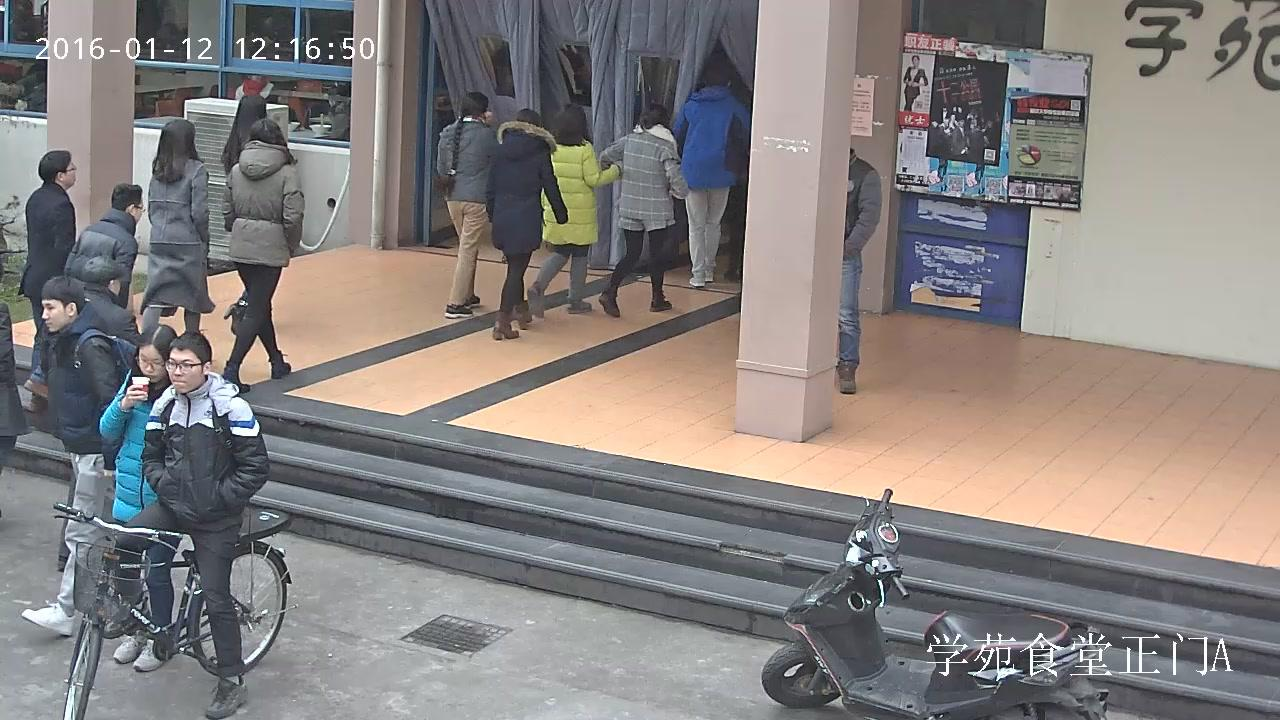person: (53, 330, 297, 720), (103, 330, 270, 720), (21, 275, 140, 635), (39, 256, 140, 571), (98, 323, 182, 671), (22, 183, 145, 401), (221, 119, 304, 393), (526, 103, 623, 319), (667, 61, 752, 287), (486, 108, 568, 340), (599, 104, 688, 317), (139, 119, 215, 333), (16, 149, 75, 413), (435, 91, 497, 318), (835, 146, 881, 393), (221, 95, 267, 335), (0, 261, 27, 517), (324, 85, 350, 141), (234, 71, 275, 105), (903, 55, 927, 112)
